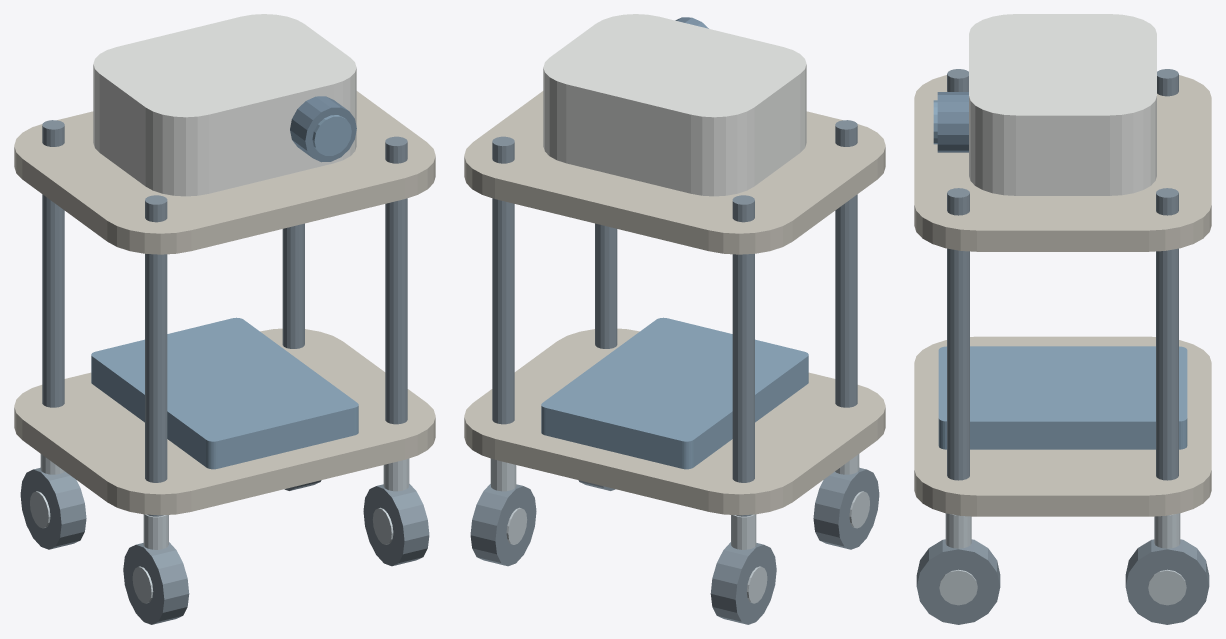
The model's file is school_projector_cart.glb.
3 views of the same model, side by side, from view 1: azimuth 30°, elevation 25°; view 2: azimuth 150°, elevation 25°; view 3: azimuth 270°, elevation 25° (orthographic).
Parts seen in each view (by area): view 1: decor_aaa493_matte, decor_d8dcd8_matte, decor_455665_metal, decor_476a8a_matte, decor_9aadb8_metal, decor_354d66_matte; view 2: decor_aaa493_matte, decor_d8dcd8_matte, decor_455665_metal, decor_476a8a_matte, decor_9aadb8_metal; view 3: decor_aaa493_matte, decor_d8dcd8_matte, decor_455665_metal, decor_476a8a_matte, decor_9aadb8_metal, decor_354d66_matte.
Part boxes in pixels (<box>): decor_aaa493_matte: <box>14,91,435,515</box>; decor_d8dcd8_matte: <box>93,14,356,196</box>; decor_455665_metal: <box>20,120,429,624</box>; decor_476a8a_matte: <box>91,115,358,469</box>; decor_9aadb8_metal: <box>30,454,409,603</box>; decor_354d66_matte: <box>290,96,356,162</box>; decor_aaa493_matte: <box>464,91,885,515</box>; decor_d8dcd8_matte: <box>543,14,806,196</box>; decor_455665_metal: <box>470,120,879,624</box>; decor_476a8a_matte: <box>541,317,808,469</box>; decor_9aadb8_metal: <box>490,454,869,603</box>; decor_aaa493_matte: <box>914,75,1211,516</box>; decor_d8dcd8_matte: <box>969,14,1156,195</box>; decor_455665_metal: <box>916,69,1209,624</box>; decor_476a8a_matte: <box>933,100,1187,449</box>; decor_9aadb8_metal: <box>939,513,1186,605</box>; decor_354d66_matte: <box>937,92,968,152</box>.
Bounding box in the file's own units: 0.72 × 1.05 × 0.57.
